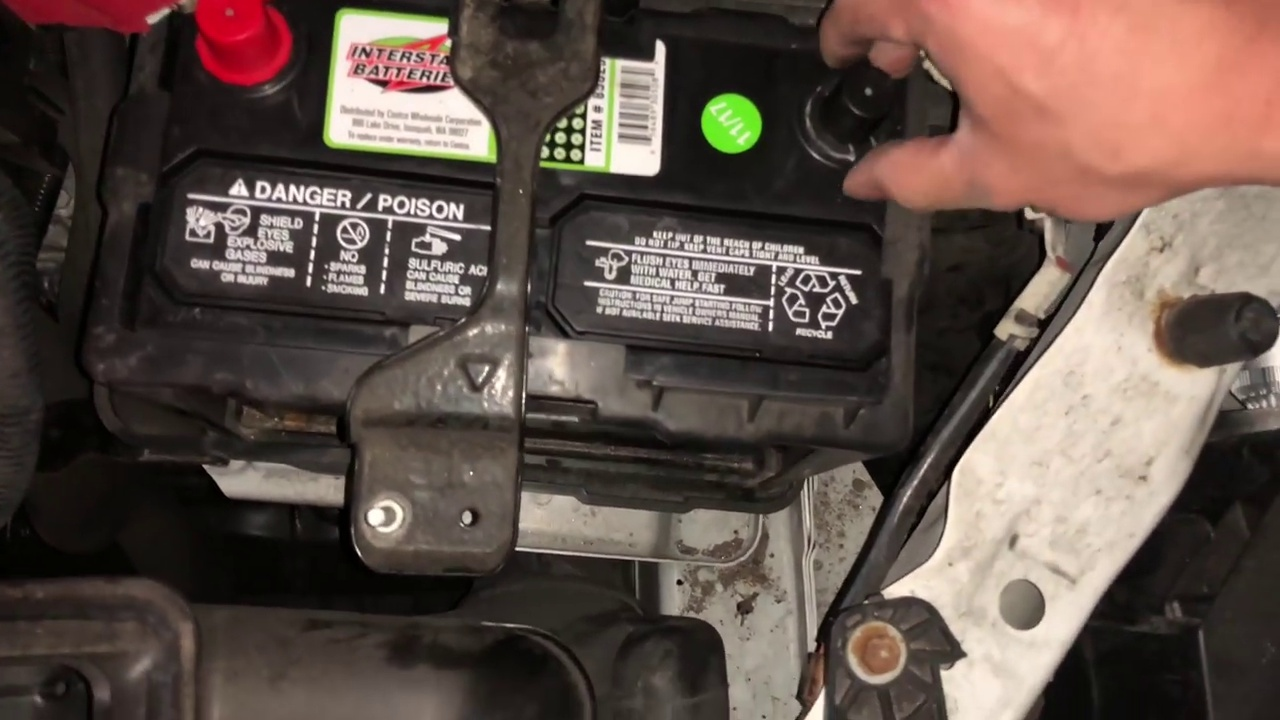battery: (141, 4, 913, 414)
